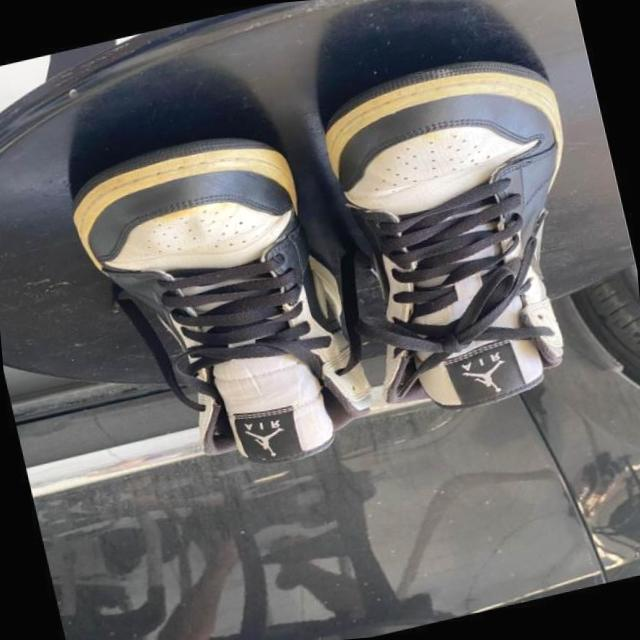nike_fake_jordan: (300, 31, 632, 436), (51, 111, 388, 506)
